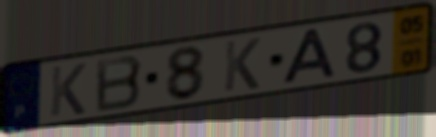8: (164, 44, 207, 102), (345, 21, 385, 74)
A: (280, 26, 339, 87)
B: (93, 53, 145, 115)
K: (48, 61, 89, 119), (222, 36, 263, 94)
